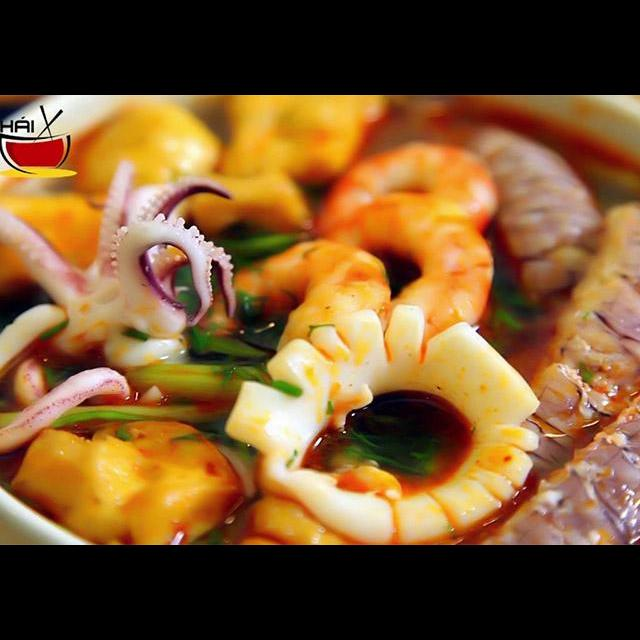muc: (221, 301, 549, 545), (0, 152, 245, 458)
tom: (308, 187, 498, 355), (195, 226, 398, 380), (306, 136, 502, 252)
tom tit: (510, 192, 640, 485), (465, 366, 640, 545), (462, 119, 617, 314)
